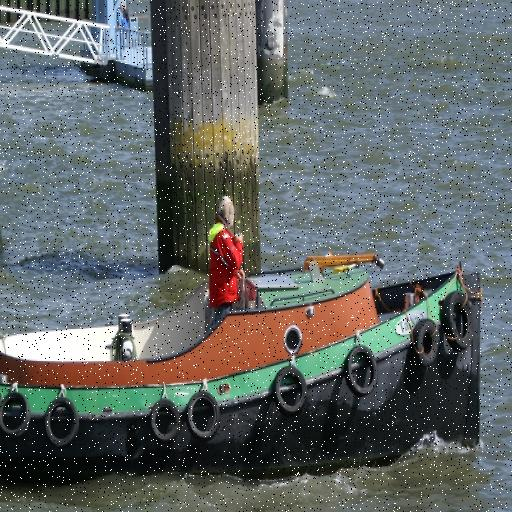tugboat: (1, 180, 487, 504)
